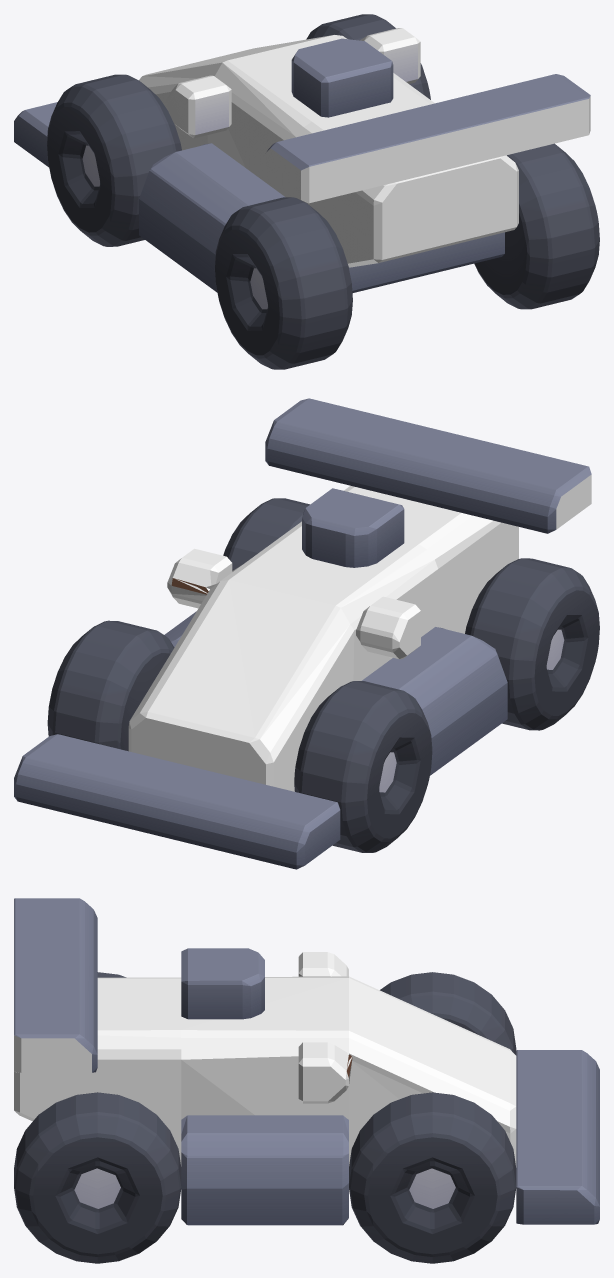
File: KitSpeedster.fbx
3 renders of one model, top to bottom at view 1: azimuth 30°, elevation 25°; view 2: azimuth 150°, elevation 25°; view 3: azimuth 270°, elevation 25°, orthographic.
Visible parts, largest first — view 1: KitSpeedster_Body, Wheel_RL, Wheel_FL, Wheel_RR, Wheel_FR; view 2: KitSpeedster_Body, Wheel_FL, Wheel_RL, Wheel_FR, Wheel_RR; view 3: KitSpeedster_Body, Wheel_RR, Wheel_FR, Wheel_FL.
Boxes of the visible parts, box(x1,y1,x2,y2) form: KitSpeedster_Body: box(14, 28, 590, 292); Wheel_RL: box(214, 197, 352, 369); Wheel_FL: box(46, 74, 181, 246); Wheel_RR: box(474, 143, 599, 309); Wheel_FR: box(306, 14, 430, 99); KitSpeedster_Body: box(14, 398, 591, 869); Wheel_FL: box(294, 681, 432, 852); Wheel_RL: box(465, 558, 599, 730); Wheel_FR: box(47, 620, 174, 751); Wheel_RR: box(223, 498, 309, 570); KitSpeedster_Body: box(14, 898, 599, 1225); Wheel_RR: box(14, 1092, 181, 1263); Wheel_FR: box(349, 1092, 516, 1263); Wheel_FL: box(380, 972, 516, 1055).
Size of the model in its own units: 1.89 by 1.29 by 3.
